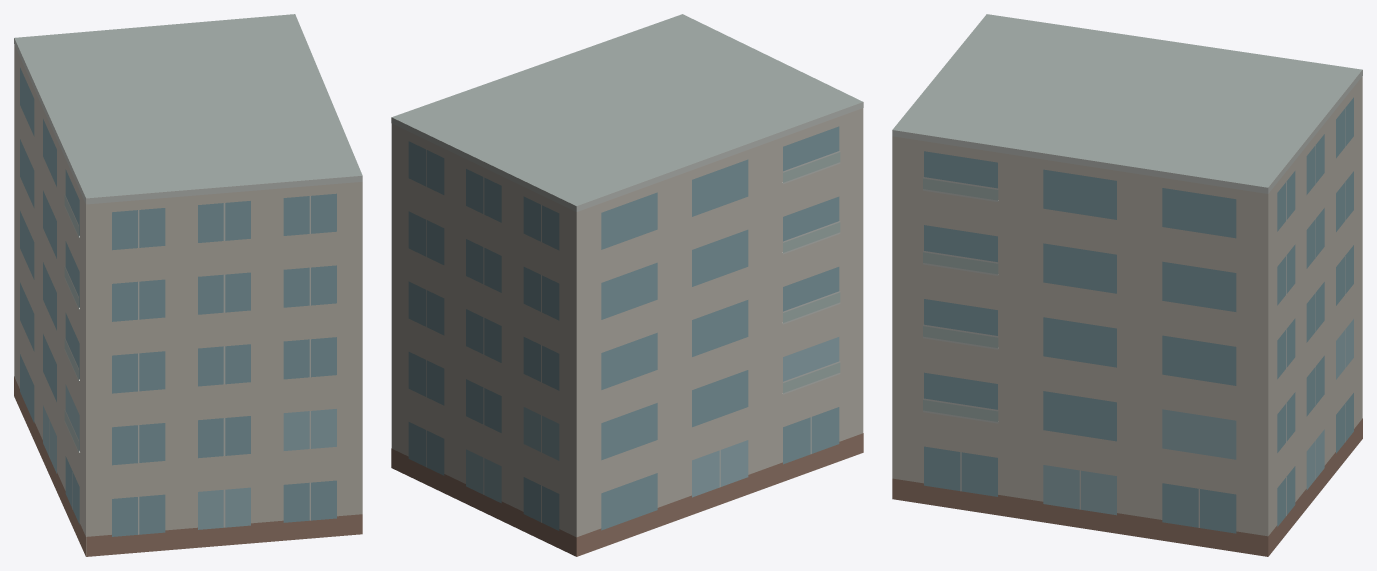
File: survey-upis-32887693.glb
The picture shows the model from 3 angles, left to right: view 1: azimuth 30°, elevation 25°; view 2: azimuth 150°, elevation 25°; view 3: azimuth 270°, elevation 25°; orthographic projection. The views are drawn at different scales.
Parts seen in each view (by area): view 1: survey-upis-32887693.tmp; view 2: survey-upis-32887693.tmp; view 3: survey-upis-32887693.tmp.
Boxes of the visible parts, x1=… form: survey-upis-32887693.tmp: x1=14, y1=14, x2=362, y2=556; survey-upis-32887693.tmp: x1=391, y1=14, x2=863, y2=556; survey-upis-32887693.tmp: x1=892, y1=14, x2=1362, y2=556.
Size of the model in its own units: 14.55 by 14.4 by 16.64.
